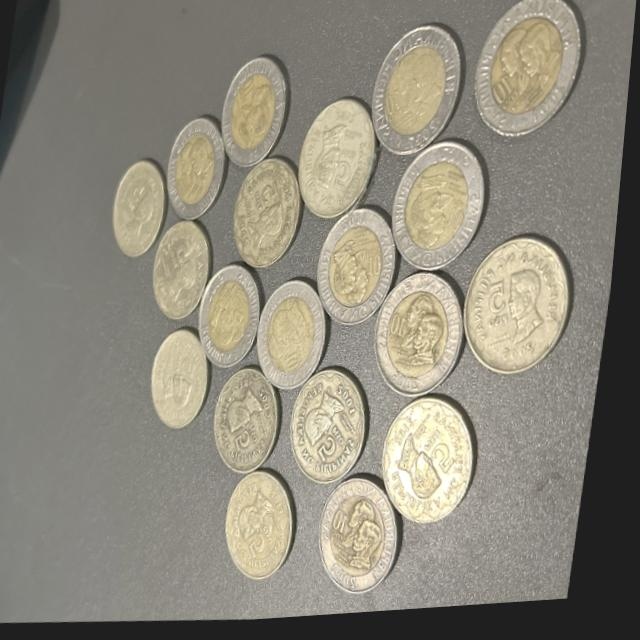10_Old_Front: (489, 21, 563, 132), (384, 295, 455, 388), (385, 46, 451, 145), (408, 161, 474, 258), (331, 498, 399, 584), (328, 229, 392, 317), (273, 298, 334, 381), (204, 283, 262, 355), (233, 78, 283, 151), (174, 135, 220, 206)
5_Old_Front: (475, 261, 563, 366), (396, 422, 481, 517), (296, 111, 371, 211), (305, 382, 377, 470), (232, 488, 300, 580), (117, 167, 176, 258), (158, 341, 216, 433), (240, 181, 298, 267), (223, 385, 279, 473), (151, 235, 208, 313)
